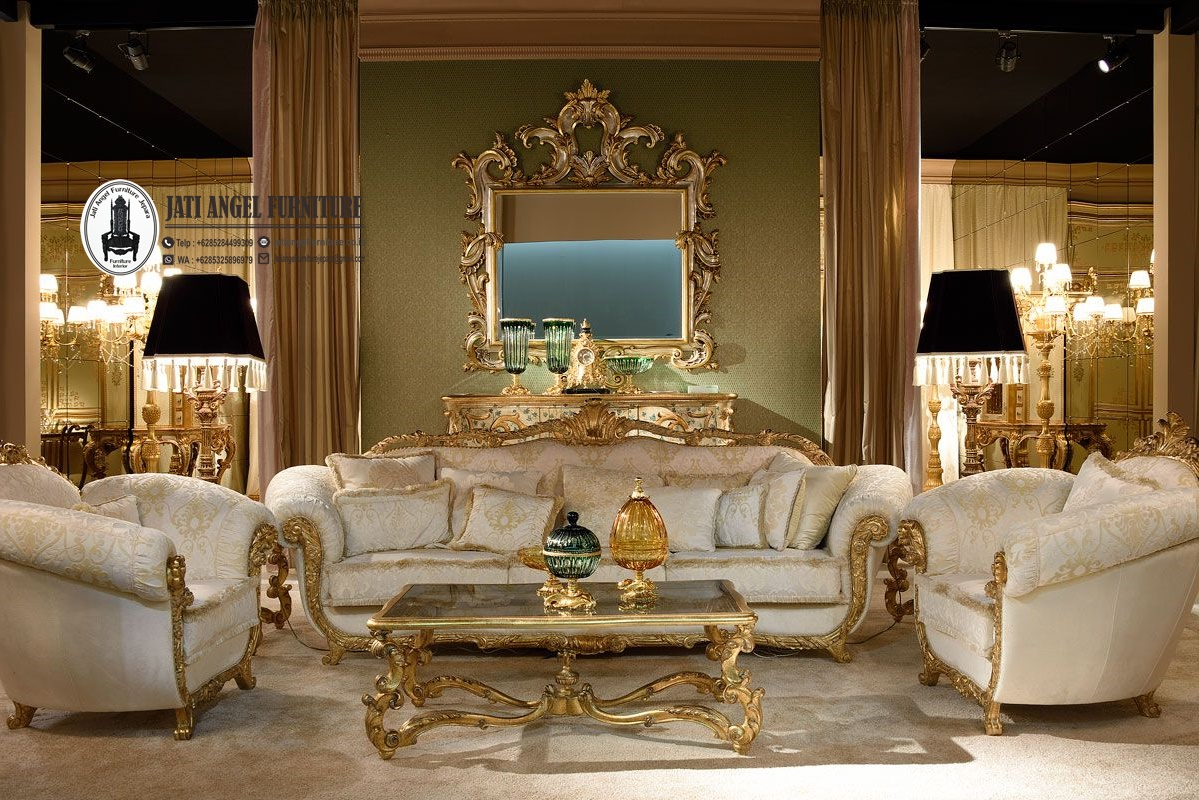bantal: (333, 485, 452, 551), (456, 484, 551, 555), (668, 485, 766, 547)
lampu: (139, 271, 277, 402), (912, 266, 1031, 399)
meja: (360, 581, 766, 754)
sova: (263, 410, 902, 647), (913, 454, 1196, 725), (1, 459, 283, 727)
